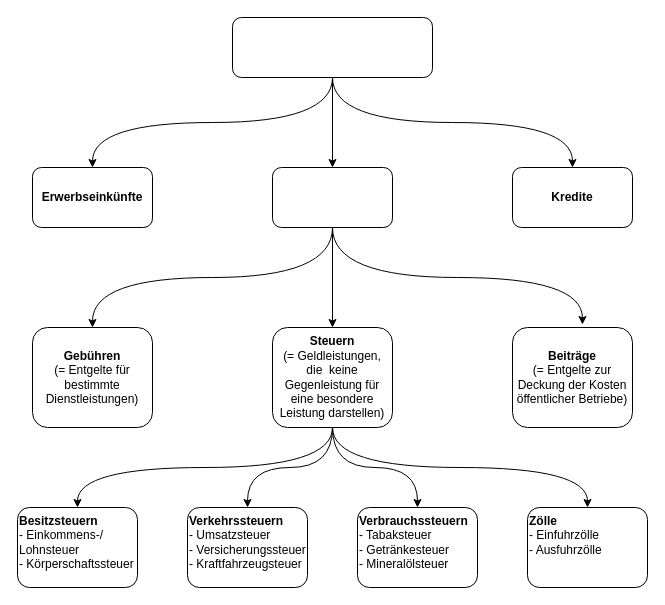
Image size: 665x605. Some labels were removed from this diagram. Here are the shapes that lost their labels. From the top down, the centre of each, then its label:
the point at 332,47: Einnahmequellen des Staates
the point at 332,197: Öffentliche Abgaben
